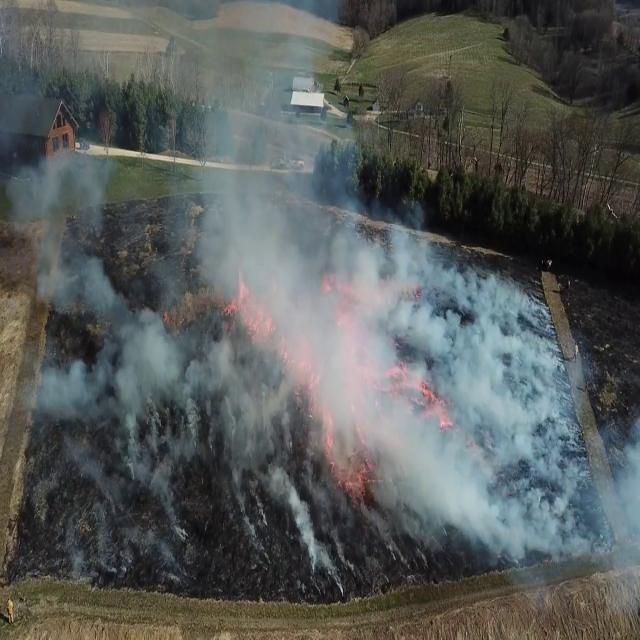Smoke: (4, 26, 392, 532), (339, 197, 600, 566)
